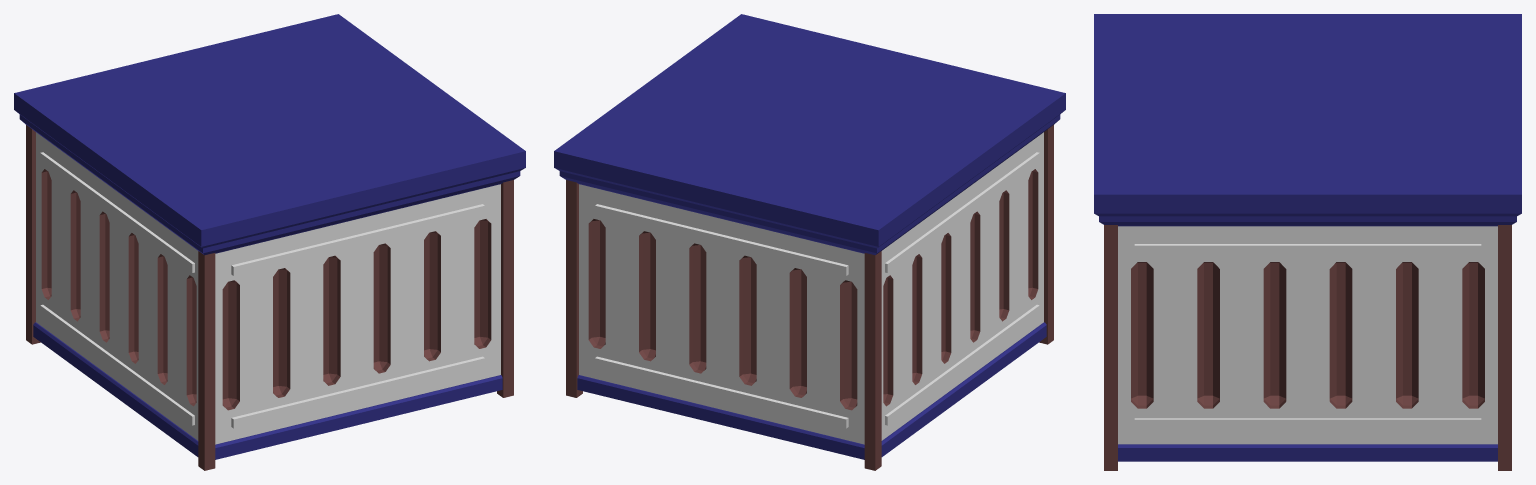
3 views of the same model, side by side, from view 1: azimuth 30°, elevation 25°; view 2: azimuth 150°, elevation 25°; view 3: azimuth 270°, elevation 25° (orthographic). The views are drawn at different scales.
Parts seen in each view (by area): view 1: floor9.1, floor9.1Decor; view 2: floor9.1, floor9.1Decor; view 3: floor9.1, floor9.1Decor.
Part boxes in pixels (left/top/right/bottom): floor9.1: left=14, top=14, right=525, bottom=459; floor9.1Decor: left=26, top=125, right=513, bottom=470; floor9.1: left=554, top=14, right=1065, bottom=459; floor9.1Decor: left=566, top=125, right=1053, bottom=470; floor9.1: left=1094, top=14, right=1521, bottom=461; floor9.1Decor: left=1104, top=225, right=1511, bottom=470.
Size of the model in its own units: 190 by 137 by 190.
